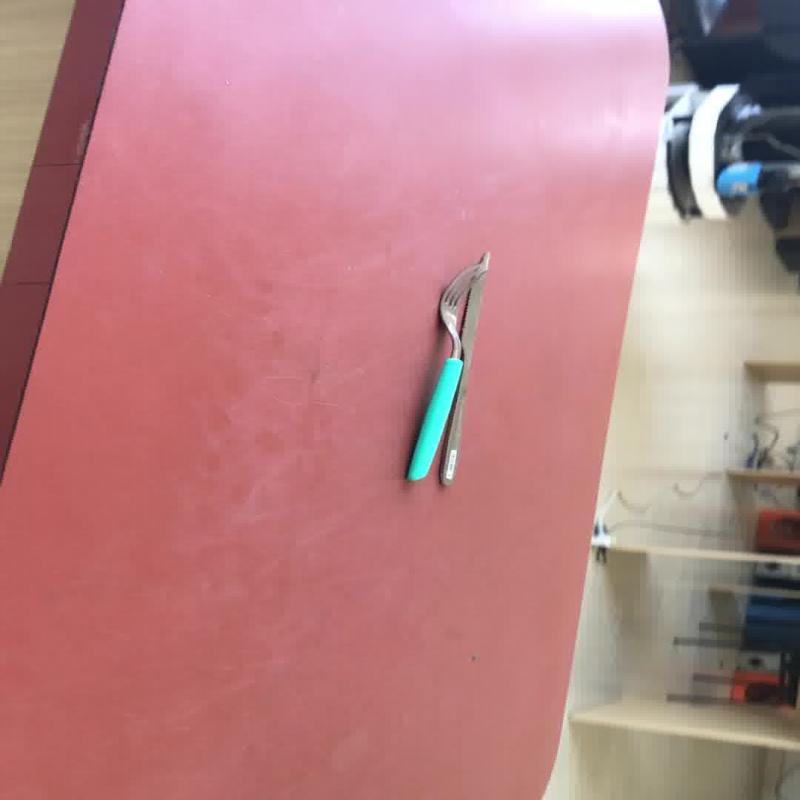fork: (403, 251, 490, 484)
knife: (402, 250, 490, 485)
